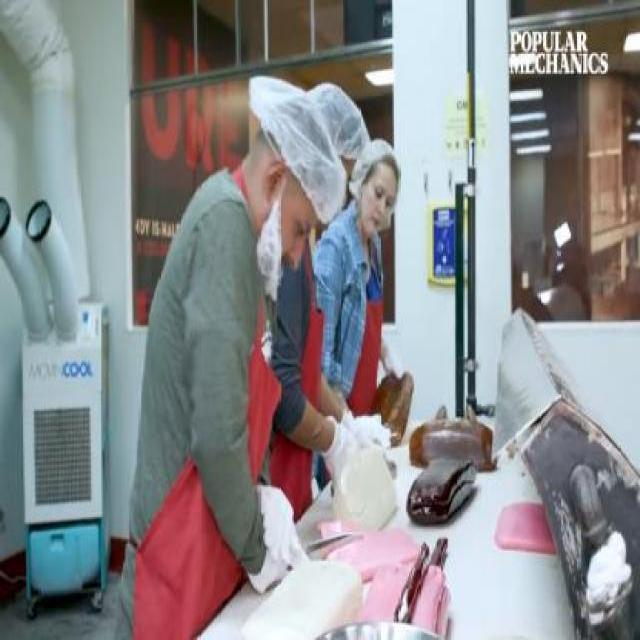gloved_hand: (330, 384, 397, 461), (253, 448, 300, 556), (308, 414, 364, 480), (376, 320, 408, 387)
